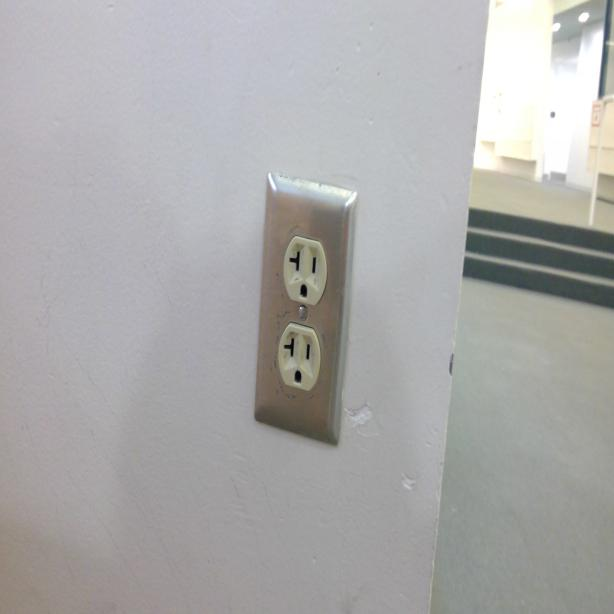typeb: (282, 236, 328, 304), (278, 322, 318, 389)
